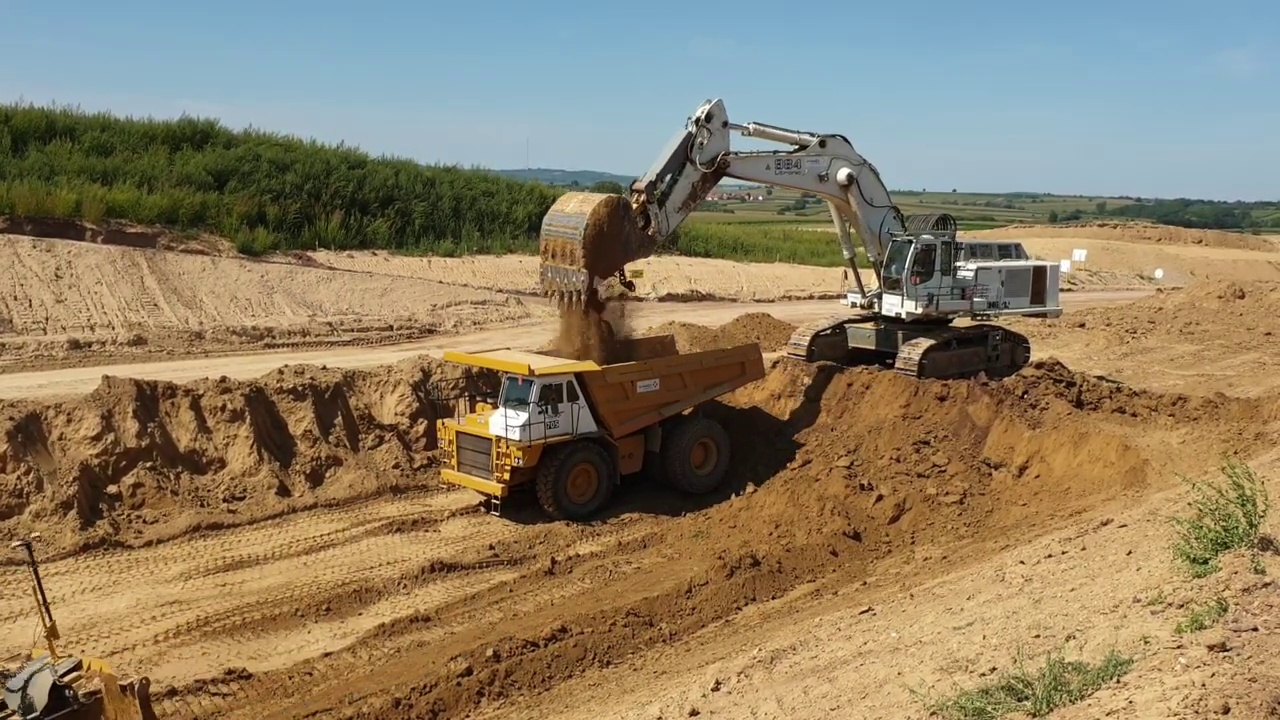bulldozer: (4, 528, 181, 720)
excavator: (533, 96, 1066, 388)
truck: (423, 333, 771, 528)
